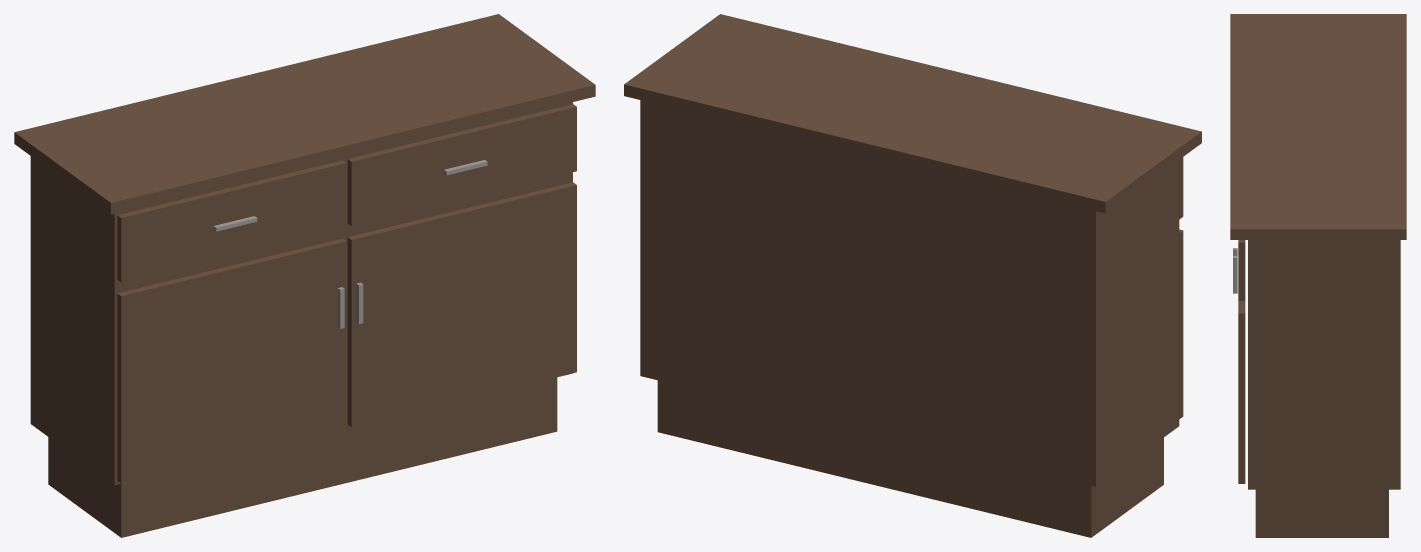
File: coffee-sideboard.glb
3 views of the same model, side by side, from view 1: azimuth 30°, elevation 25°; view 2: azimuth 150°, elevation 25°; view 3: azimuth 270°, elevation 25° (orthographic). The views are drawn at different scales.
Parts seen in each view (by area): view 1: wood, brushed; view 2: wood; view 3: wood, brushed.
Part boxes in pixels (x1,y1,x2,y2): wood: (14,14,595,537); brushed: (213,160,487,328); wood: (624,14,1201,537); wood: (1230,14,1406,537); brushed: (1233,248,1237,293).
Size of the model in its own units: 1.3 by 0.9 by 0.45.
